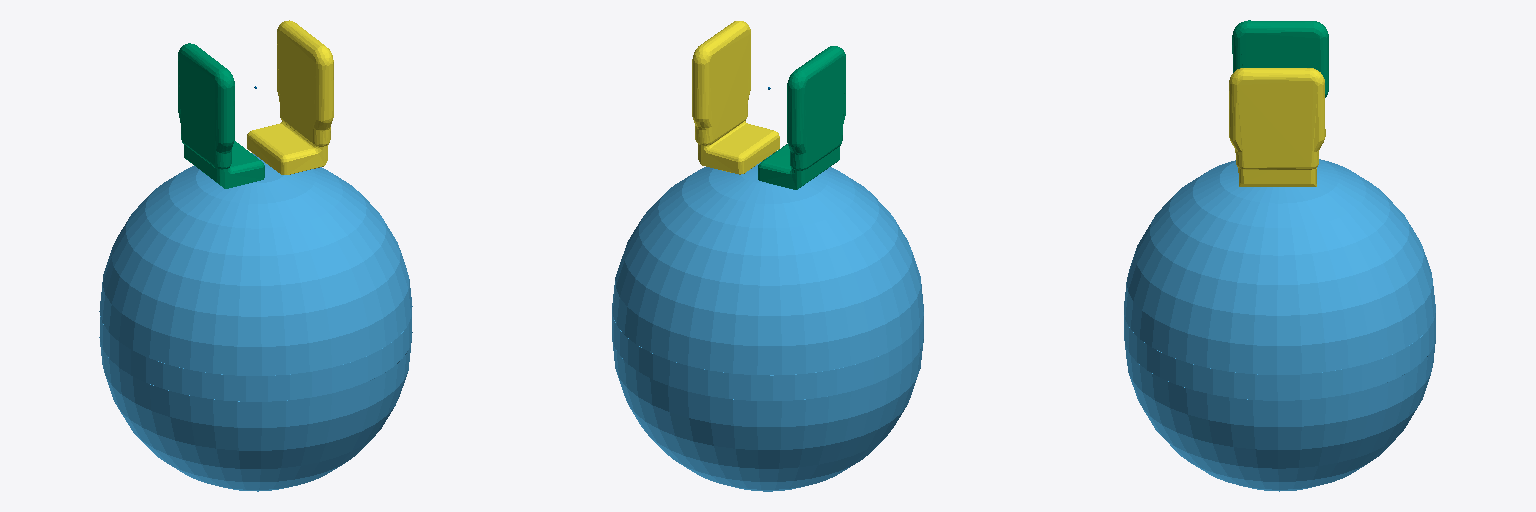
URDF robot description (iiwa7_0):
<?xml version="1.0" encoding="utf-8"?>
<!-- =================================================================================== -->
<!-- |    This document was autogenerated by xacro from iiwa7.urdf.xacro               | -->
<!-- |    EDITING THIS FILE BY HAND IS NOT RECOMMENDED                                 | -->
<!-- =================================================================================== -->
<robot name="iiwa7_0">
    <!-- Fix to world just for testing -->
    <link name="world"/>
    <!--joint between {parent} and link_0-->
    <joint name="lbr1_world_iiwa_joint" type="fixed">
        <origin xyz="0.3682 -0.1842 0.7014" rpy="0.0039 -0.0030 -0.0161"/>
        <parent link="world"/>
        <child link="lbr1_link_0"/>
    </joint>
    <link name="lbr1_link_0">
        <visual>
            <origin rpy="0 0 0" xyz="0 0 0"/>
            <geometry>
                <mesh filename="urdfs/iiwa7_L/meshes/visual/base.dae"/>
            </geometry>
            
        </visual>
        <collision>
            <origin rpy="0 0 0" xyz="0 0 0"/>
            <geometry>
                <mesh filename="urdfs/iiwa7_L/meshes/collision/link_0.stl"/>
            </geometry>
        </collision>
    </link>
    <!-- joint between link_0 and link_1 -->
    <joint name="lbr1_A1" type="revolute">
        <parent link="lbr1_link_0"/>
        <child link="lbr1_link_1"/>
        <origin rpy="0 0 0" xyz="0 0 0.15"/>
        <axis xyz="0 0 1"/>
        <limit effort="300" lower="-2.96705972839" upper="2.96705972839" velocity="10"/>
        <safety_controller k_position="100" k_velocity="2" soft_lower_limit="-2.93215314335" soft_upper_limit="2.93215314335"/>
        <dynamics damping="0.5"/>
    </joint>
    <link name="lbr1_link_1">
        <visual>
            <origin rpy="0 0 0" xyz="0 0 0.0075"/>
            <geometry>
                <mesh filename="urdfs/iiwa7_L/meshes/visual/link1.dae"/>
            </geometry>
            
        </visual>
        <collision>
            <origin rpy="0 0 0" xyz="0 0 0.0075"/>
            <geometry>
                <mesh filename="urdfs/iiwa7_L/meshes/collision/link_1.stl"/>
            </geometry>
            
        </collision>
    </link>
    <joint name="lbr1_A2" type="revolute">
        <parent link="lbr1_link_1"/>
        <child link="lbr1_link_2"/>
        <origin rpy="1.57079632679   0 3.14159265359" xyz="0 0 0.19"/>
        <axis xyz="0 0 1"/>
        <limit effort="300" lower="-2.09439510239" upper="2.09439510239" velocity="10"/>
        <safety_controller k_position="100" k_velocity="2" soft_lower_limit="-2.05948851735" soft_upper_limit="2.05948851735"/>
        <dynamics damping="0.5"/>
    </joint>
    <link name="lbr1_link_2">
        <visual>
            <origin rpy="0 0 0" xyz="0 0 0"/>
            <geometry>
                <mesh filename="urdfs/iiwa7_L/meshes/visual/link2.dae"/>
            </geometry>
            
        </visual>
        <collision>
            <origin rpy="0 0 0" xyz="0 0 0"/>
            <geometry>
                <mesh filename="urdfs/iiwa7_L/meshes/collision/link_2.stl"/>
            </geometry>
            
        </collision>
    </link>
    <joint name="lbr1_A3" type="revolute">
        <parent link="lbr1_link_2"/>
        <child link="lbr1_link_3"/>
        <origin rpy="1.57079632679 0 3.14159265359" xyz="0 0.21 0"/>
        <axis xyz="0 0 1"/>
        <limit effort="300" lower="-2.96705972839" upper="2.96705972839" velocity="10"/>
        <safety_controller k_position="100" k_velocity="2" soft_lower_limit="-2.93215314335" soft_upper_limit="2.93215314335"/>
        <dynamics damping="0.5"/>
    </joint>
    <link name="lbr1_link_3">
        <visual>
            <origin rpy="0 0 0" xyz="0 0 -0.026"/>
            <geometry>
                <mesh filename="urdfs/iiwa7_L/meshes/visual/link3.dae"/>
            </geometry>
            
        </visual>
        <collision>
            <origin rpy="0 0 0" xyz="0 0 -0.026"/>
            <geometry>
                <mesh filename="urdfs/iiwa7_L/meshes/collision/link_3.stl"/>
            </geometry>
            
        </collision>
    </link>
    <joint name="lbr1_A4" type="revolute">
        <parent link="lbr1_link_3"/>
        <child link="lbr1_link_4"/>
        <origin rpy="1.57079632679 0 0" xyz="0 0 0.19"/>
        <axis xyz="0 0 1"/>
        <limit effort="300" lower="-2.09439510239" upper="2.09439510239" velocity="10"/>
        <safety_controller k_position="100" k_velocity="2" soft_lower_limit="-2.05948851735" soft_upper_limit="2.05948851735"/>
        <dynamics damping="0.5"/>
    </joint>
    <link name="lbr1_link_4">
        <visual>
            <origin rpy="0 0 0" xyz="0 0 0"/>
            <geometry>
                <mesh filename="urdfs/iiwa7_L/meshes/visual/link4.dae"/>
            </geometry>
            
        </visual>
        <collision>
            <origin rpy="0 0 0" xyz="0 0 0"/>
            <geometry>
                <mesh filename="urdfs/iiwa7_L/meshes/collision/link_4.stl"/>
            </geometry>
            
        </collision>
    </link>
    <joint name="lbr1_A5" type="revolute">
        <parent link="lbr1_link_4"/>
        <child link="lbr1_link_5"/>
        <origin rpy="-1.57079632679 3.14159265359 0" xyz="0 0.21 0"/>
        <axis xyz="0 0 1"/>
        <limit effort="300" lower="-2.96705972839" upper="2.96705972839" velocity="10"/>
        <safety_controller k_position="100" k_velocity="2" soft_lower_limit="-2.93215314335" soft_upper_limit="2.93215314335"/>
        <dynamics damping="0.5"/>
    </joint>
    <link name="lbr1_link_5">
        <visual>
            <origin rpy="0 0 0" xyz="0 0 -0.026"/>
            <geometry>
                <mesh filename="urdfs/iiwa7_L/meshes/visual/link5.dae"/>
            </geometry>
            
        </visual>
        <collision>
            <origin rpy="0 0 0" xyz="0 0 -0.026"/>
            <geometry>
                <mesh filename="urdfs/iiwa7_L/meshes/collision/link_5.stl"/>
            </geometry>
            
        </collision>
    </link>
    <joint name="lbr1_A6" type="revolute">
        <parent link="lbr1_link_5"/>
        <child link="lbr1_link_6"/>
        <origin rpy="1.57079632679 0 0" xyz="0 0.06070 0.19"/>
        <axis xyz="0 0 1"/>
        <limit effort="300" lower="-2.09439510239" upper="2.09439510239" velocity="10"/>
        <safety_controller k_position="100" k_velocity="2" soft_lower_limit="-2.05948851735" soft_upper_limit="2.05948851735"/>
        <dynamics damping="0.5"/>
    </joint>
    <link name="lbr1_link_6">
        <visual>
            <origin rpy="0 0 0" xyz="0 0 0"/>
            <geometry>
                <mesh filename="urdfs/iiwa7_L/meshes/visual/link6.dae"/>
            </geometry>
            
        </visual>
        <collision>
            <origin rpy="0 0 0" xyz="0 0 0"/>
            <geometry>
                <mesh filename="urdfs/iiwa7_L/meshes/collision/link_6.stl"/>
            </geometry>
            
        </collision>
    </link>
    <joint name="lbr1_A7" type="revolute">
        <parent link="lbr1_link_6"/>
        <child link="lbr1_link_7"/>
        <origin rpy="-1.57079632679 3.14159265359 0" xyz="0 0.081 0.06070"/>
        <axis xyz="0 0 1"/>
        <limit effort="300" lower="-3.05432619099" upper="3.05432619099" velocity="10"/>
        <safety_controller k_position="100" k_velocity="2" soft_lower_limit="-3.01941960595" soft_upper_limit="3.01941960595"/>
        <dynamics damping="0.5"/>
    </joint>
    <link name="lbr1_link_7">
        <inertial>
            <origin rpy="0 0 0" xyz="0 0 0.02"/>
            <mass value="3.129"/>
            <inertia ixx="0.01464" ixy="0.0005912" ixz="0" iyy="0.01465" iyz="0" izz="0.002872"/>
        </inertial>
        <visual>
            <origin rpy="0 0 0" xyz="0 0 -0.0005"/>
            <geometry>
                <mesh filename="urdfs/iiwa7_L/meshes/visual/link7.dae"/>
            </geometry>
            
        </visual>
        <collision>
            <origin rpy="0 0 0" xyz="0 0 -0.0005"/>
            <geometry>
                <mesh filename="urdfs/iiwa7_L/meshes/collision/link_7.stl"/>
            </geometry>
            
        </collision>
    </link>
        <!-- end effector without gripper -->
    <joint name="lbr1_joint_ee" type="fixed">
        <parent link="lbr1_link_7"/>
        <child link="lbr1_link_gripper"/>
        <origin rpy="0.0 0.0 0.0" xyz="0.0 0.0 0.105"/>
    </joint>

    <!-- weight ,CoG and TCP can be obtained from onrobot web application CoG/TCP -->
    <link name="lbr1_link_gripper">
        <inertial>
            <origin rpy="0 0 0" xyz="0 0 0"/>
            <mass value="1.2"/>
            <inertia ixx="0.00219" ixy="0" ixz="0" iyy="0.00219" iyz="0" izz="0.0015"/>
        </inertial>
        <visual>
            <origin rpy="0 0 0" xyz="0 0 0"/>
            <geometry>
                <mesh filename="urdfs/iiwa7_L/meshes/collision/lbr1_gripper_blender.stl"/>
            </geometry>
        </visual>
        <collision>
            <origin rpy="0 0 0" xyz="0 0 0"/>
            <geometry>
                <mesh filename="urdfs/iiwa7_L/meshes/collision/lbr1_gripper_blender.stl"/>
            </geometry>
        </collision>
    </link>
    <joint name="lbr1_right_finger_joint" type="fixed">
        <origin rpy="0 0 0" xyz="-0.012 0 0.061"/>
        <parent link="lbr1_link_gripper"/>
        <child link="lbr1_right_finger_link"/>
    </joint>
    <joint name="lbr1_left_finger_joint" type="fixed">
        <origin rpy="0 0 0" xyz="0.012 0 0.061"/>
        <parent link="lbr1_link_gripper"/>
        <child link="lbr1_left_finger_link"/>
    </joint>

    <link name="lbr1_right_finger_link">
        <visual>
            <origin rpy="0 0 0" xyz="0 0 0"/>
            <geometry>
                <mesh filename="urdfs/iiwa7_L/meshes/onrobot_2fg7/2fg7_gripper_right.stl"/>
            </geometry>
        </visual>
        <collision name="lbr1_right_finger_collision">
            <origin rpy="0 0 0" xyz="0 0 0"/>
            <geometry>
                <mesh filename="urdfs/iiwa7_L/meshes/onrobot_2fg7/2fg7_gripper_right.stl"/>
            </geometry>
        </collision>
    </link>
    <link name="lbr1_left_finger_link">
        <visual>
            <origin rpy="0 0 0" xyz="0 0 0"/>
            <geometry>
                <mesh filename="urdfs/iiwa7_L/meshes/onrobot_2fg7/2fg7_gripper_left.stl"/>
            </geometry>
        </visual>
        <collision name="lbr1_left_finger_collision">
            <origin rpy="0 0 0" xyz="0 0 0"/>
            <geometry>
                <mesh filename="urdfs/iiwa7_L/meshes/onrobot_2fg7/2fg7_gripper_left.stl"/>
            </geometry>
        </collision>
    </link>
    <joint name="lbr1_true_ee_joint" type="fixed">
        <parent link="lbr1_left_finger_link"/>
        <child link="lbr1_true_ee_link"/>
        <origin rpy="0 0 0" xyz="-0.012 0 0.03"/>
    </joint>
    <link name="lbr1_true_ee_link">
        <inertial>
            <origin xyz="0 0 0" rpy="0 0 0"/>
            <mass value="0.001"/>
            <inertia ixx="1e-6" ixy="0" ixz="0" iyy="1e-6" iyz="0" izz="1e-6"/>
        </inertial>
        <visual>
            <origin xyz="0 0 0" rpy="0 0 0"/>
            <geometry>
                <mesh filename="urdfs/iiwa7_L/meshes/collision/small_ball.stl"/>
            </geometry>
        </visual>
        <collision>
            <origin xyz="0 0 0" rpy="0 0 0"/>
            <geometry>
                <mesh filename="urdfs/iiwa7_L/meshes/collision/small_ball.stl"/>
            </geometry>
        </collision>
    </link>
</robot>

--- What the picture shows (computed from the rendered views, not written in the file) ---
Views: 3 orthographic renders of the robot side by side, from view 1: azimuth 30°, elevation 25°; view 2: azimuth 150°, elevation 25°; view 3: azimuth 270°, elevation 25°.
Model iiwa7_0 with 13 links and 12 joints (7 revolute, 5 fixed), rooted at world, posed every joint at zero.
Visible links, largest first — view 1: lbr1_link_gripper, lbr1_left_finger_link, lbr1_right_finger_link; view 2: lbr1_link_gripper, lbr1_left_finger_link, lbr1_right_finger_link; view 3: lbr1_link_gripper, lbr1_left_finger_link, lbr1_right_finger_link.
Boxes of the visible links, box(x1,y1,x2,y2) form: lbr1_link_gripper: box(99, 153, 412, 491); lbr1_left_finger_link: box(247, 20, 333, 174); lbr1_right_finger_link: box(178, 43, 264, 188); lbr1_link_gripper: box(612, 155, 923, 491); lbr1_left_finger_link: box(692, 21, 779, 174); lbr1_right_finger_link: box(758, 46, 845, 189); lbr1_link_gripper: box(1124, 159, 1435, 491); lbr1_left_finger_link: box(1229, 68, 1325, 186); lbr1_right_finger_link: box(1232, 20, 1328, 97).
Size in the robot's own frame: 0.11 by 0.11 by 0.1677 metres.
4 mesh visuals loaded from 12 distinct referenced files (4 binary STL); not drawn: 8 (reference not matched to a file when rendering).